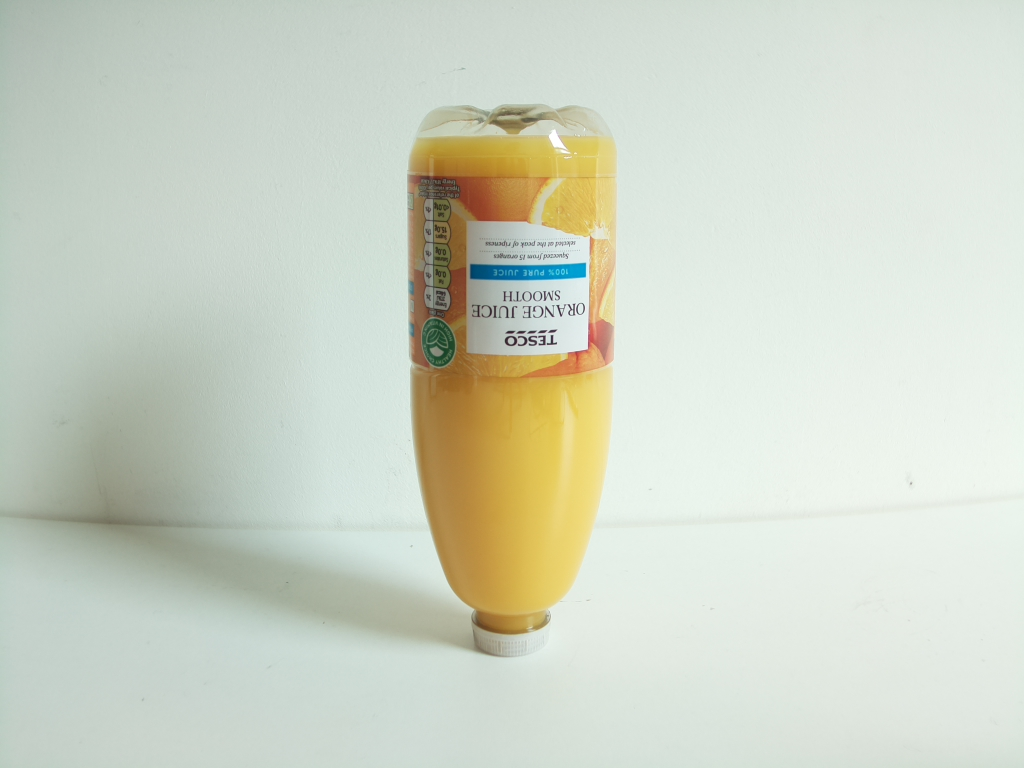juice: (389, 96, 636, 663)
